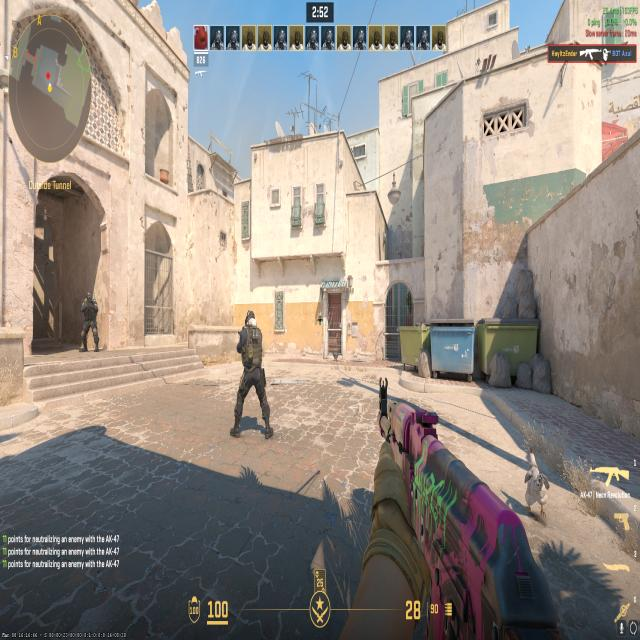ct: (222, 301, 278, 449), (77, 290, 101, 356)
